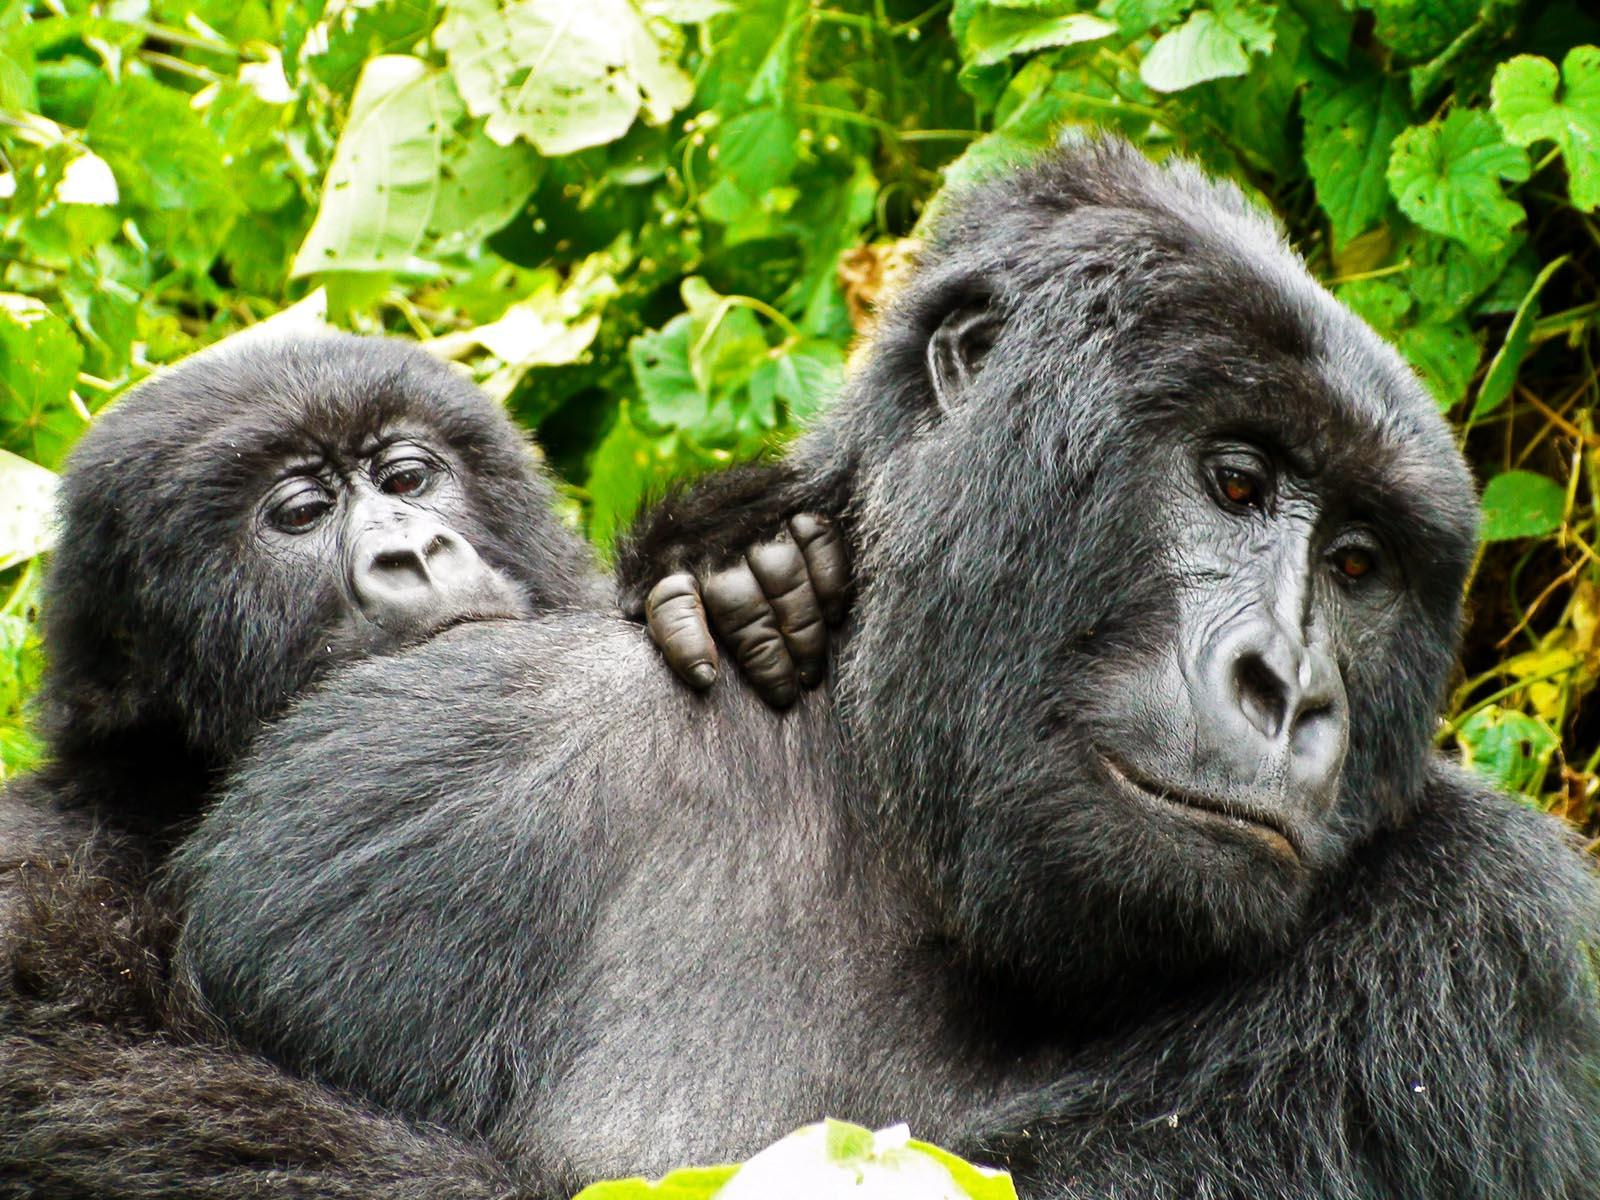gorille_Autres: (506, 44, 1600, 1184), (4, 231, 659, 774)
